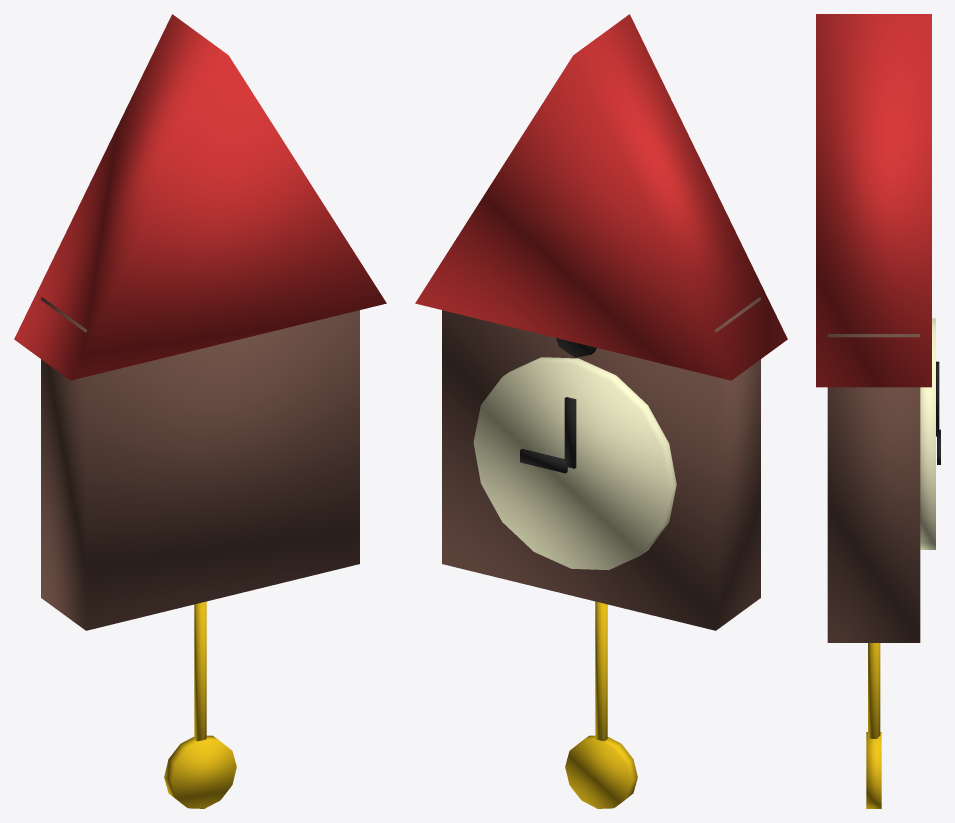
The model's file is reloj_pared.glb.
3 renders of one model, left to right at view 1: azimuth 30°, elevation 25°; view 2: azimuth 150°, elevation 25°; view 3: azimuth 270°, elevation 25°, orthographic. The views are drawn at different scales.
Parts seen in each view (by area): view 1: reloj_pared; view 2: reloj_pared; view 3: reloj_pared.
Boxes of the visible parts, <box> form: reloj_pared: <box>14,14,386,808</box>; reloj_pared: <box>415,14,787,808</box>; reloj_pared: <box>816,14,940,808</box>.
Size of the model in its own units: 0.485 by 1.13 by 0.1615.
